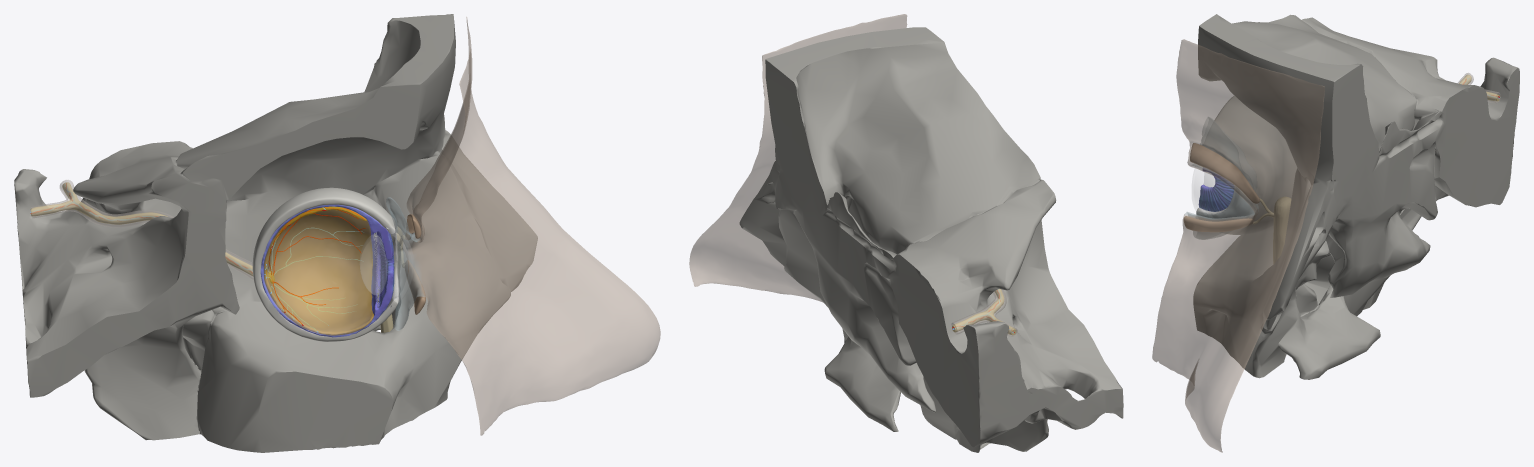
The model's file is 1eye_anathomy.glb.
3 views of the same model, side by side, from view 1: azimuth 30°, elevation 25°; view 2: azimuth 150°, elevation 25°; view 3: azimuth 270°, elevation 25° (orthographic). The views are drawn at different scales.
Parts seen in each view (by area): view 1: Bones10, Skin, Choroid, Optic_part_of_right_retina, Sclera, Right_optic_nerve2, Right_optic_nerve1, Lens, Cornea1, Retinal_veins, Retinal_arteries; view 2: Bones10, Skin, Right_optic_nerve2, Right_optic_nerve1; view 3: Bones10, Skin, Sclera, Cornea1, Tarsal_plate_upper_eyelid, Choroid, Right_lacrimal_caniculus, Tarsal_plate_lower_eyelid.
Part boxes in pixels (bbox=[...]): Bones10: bbox=[14, 14, 537, 452]; Skin: bbox=[386, 17, 660, 435]; Choroid: bbox=[260, 204, 394, 337]; Optic_part_of_right_retina: bbox=[264, 206, 373, 335]; Sclera: bbox=[252, 187, 399, 341]; Right_optic_nerve2: bbox=[31, 180, 253, 280]; Right_optic_nerve1: bbox=[30, 182, 274, 283]; Lens: bbox=[360, 234, 387, 294]; Cornea1: bbox=[393, 226, 413, 301]; Retinal_veins: bbox=[30, 191, 362, 332]; Retinal_arteries: bbox=[30, 184, 365, 325]; Bones10: bbox=[739, 27, 1123, 452]; Skin: bbox=[689, 14, 907, 302]; Right_optic_nerve2: bbox=[951, 289, 1017, 336]; Right_optic_nerve1: bbox=[952, 289, 1016, 335]; Bones10: bbox=[1193, 14, 1519, 379]; Skin: bbox=[1152, 39, 1324, 452]; Sclera: bbox=[1196, 95, 1296, 234]; Cornea1: bbox=[1192, 168, 1233, 214]; Tarsal_plate_upper_eyelid: bbox=[1190, 143, 1259, 203]; Choroid: bbox=[1198, 168, 1233, 211]; Right_lacrimal_caniculus: bbox=[1253, 196, 1291, 264]; Tarsal_plate_lower_eyelid: bbox=[1183, 216, 1252, 232].
Bounding box in the file's own units: 109 × 68.83 × 66.88.
